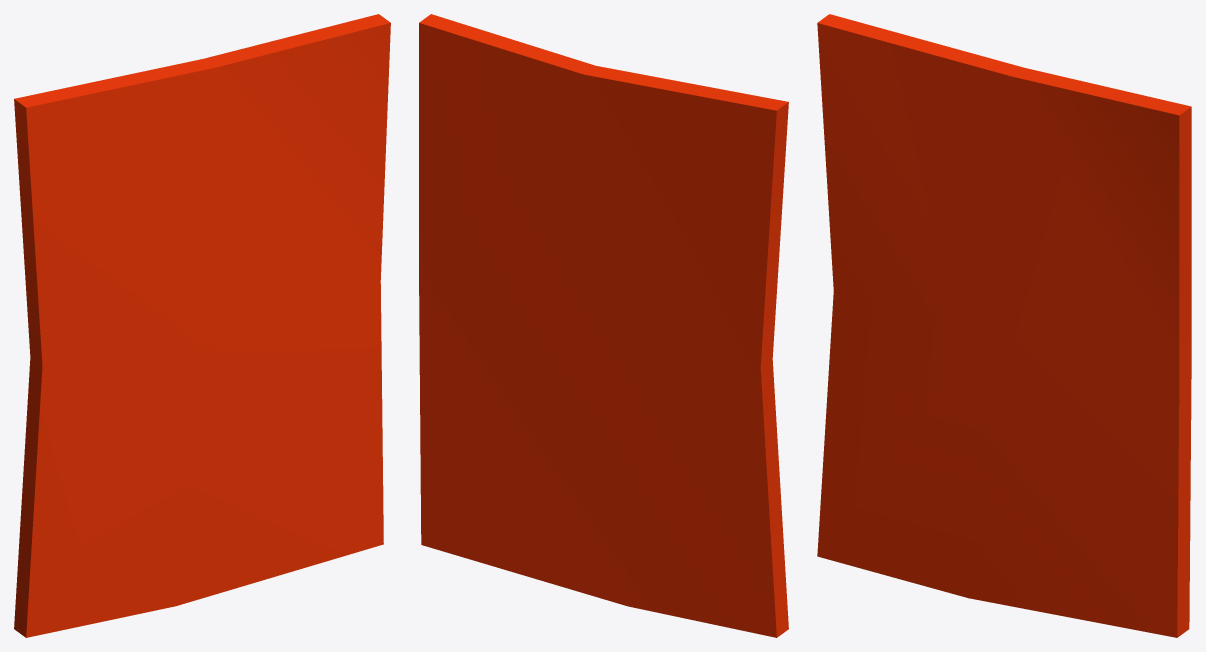
Rendered from SkinDoorR01.FBX.
3 renders of one model, left to right at view 1: azimuth 30°, elevation 25°; view 2: azimuth 150°, elevation 25°; view 3: azimuth 330°, elevation 25°, orthographic.
Parts seen in each view (by area): view 1: Roundhouse_SkinDoorR; view 2: Roundhouse_SkinDoorR; view 3: Roundhouse_SkinDoorR.
Part boxes in pixels (x1=…): Roundhouse_SkinDoorR: x1=14, y1=14, x2=390, y2=637; Roundhouse_SkinDoorR: x1=419, y1=14, x2=788, y2=637; Roundhouse_SkinDoorR: x1=817, y1=14, x2=1191, y2=637.
Size of the model in its own units: 2.36 by 3.33 by 0.1939.
